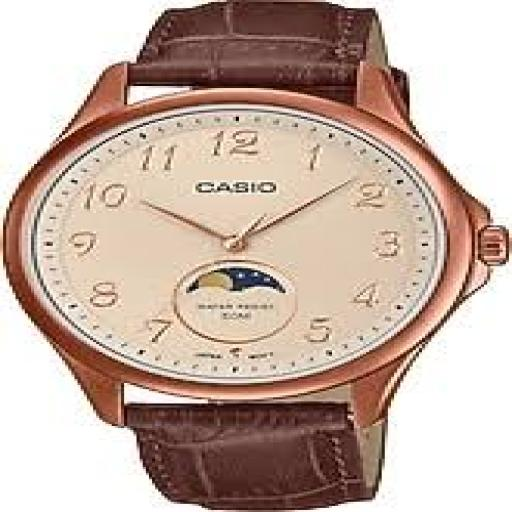KolSaati: (7, 2, 505, 509)
